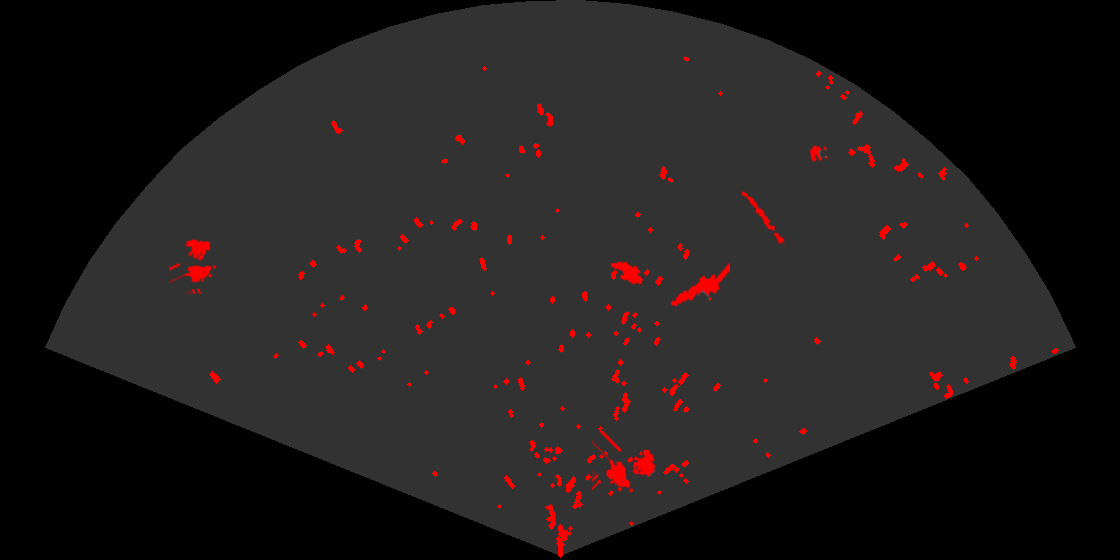AUV: (608, 260, 645, 286)
ball: (808, 144, 830, 163)
cage: (592, 431, 657, 494), (169, 237, 218, 294)
chain: (737, 183, 788, 247)
frogman: (669, 261, 730, 308)
